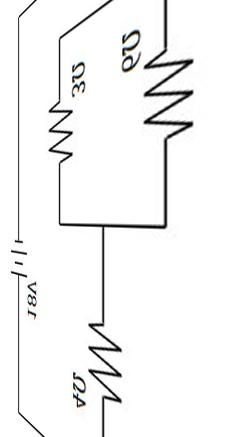resistor: (143, 31, 204, 145), (81, 302, 138, 410), (43, 93, 85, 165)
